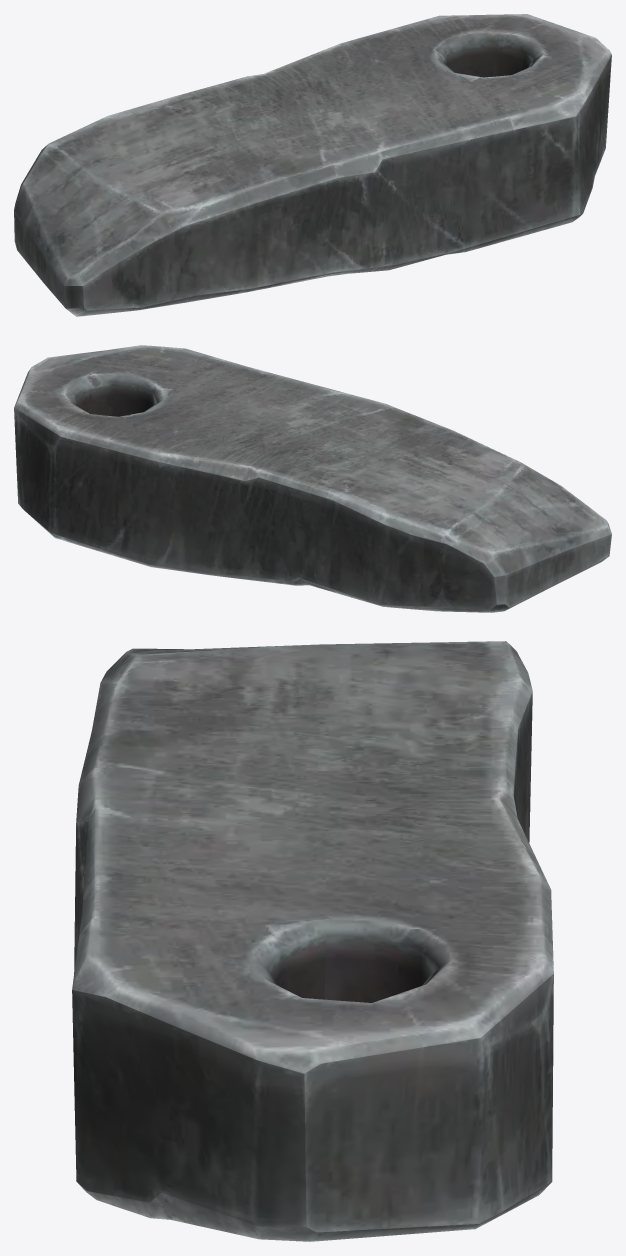
3 views of the same model, one above another, from view 1: azimuth 30°, elevation 25°; view 2: azimuth 150°, elevation 25°; view 3: azimuth 270°, elevation 25° (orthographic). The views are drawn at different scales.
Visible parts, largest first — view 1: SM_Handheld_Whetstone_01_LOD0; view 2: SM_Handheld_Whetstone_01_LOD0; view 3: SM_Handheld_Whetstone_01_LOD0.
Boxes of the visible parts, left/top/right/bottom form: SM_Handheld_Whetstone_01_LOD0: left=14, top=14, right=611, bottom=316; SM_Handheld_Whetstone_01_LOD0: left=14, top=345, right=611, bottom=612; SM_Handheld_Whetstone_01_LOD0: left=72, top=641, right=553, bottom=1241.
Bounding box in the file's own units: 0.2628 × 0.0548 × 0.1011.
Materials: 1 (1 with a texture image).
